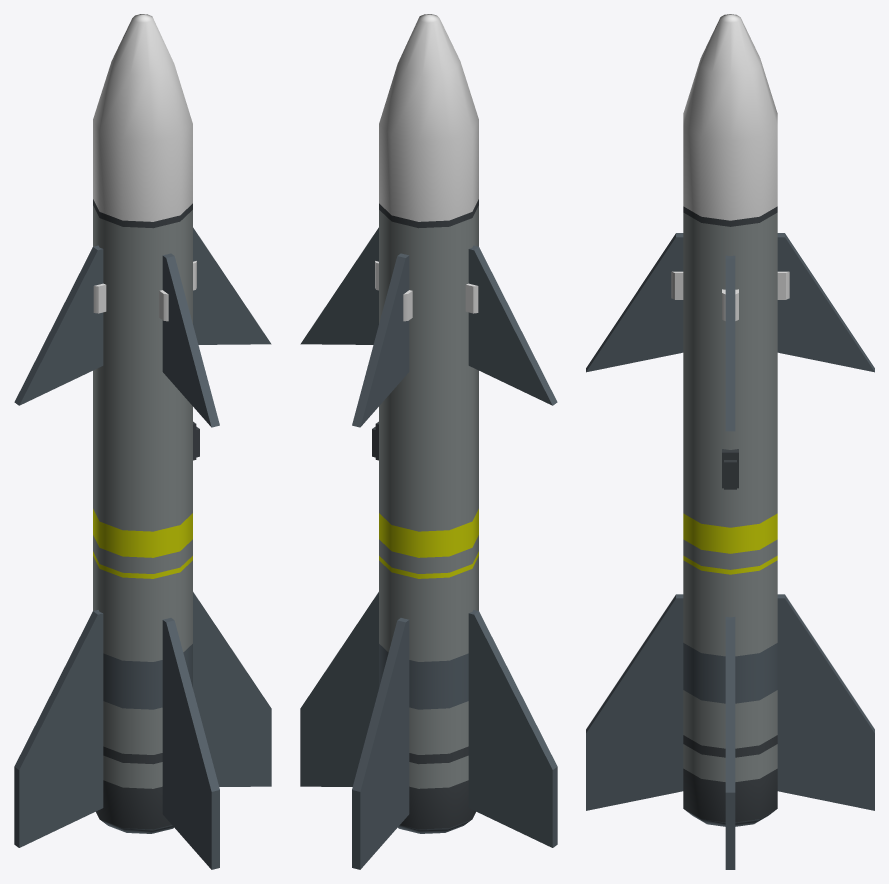
Rendered from Missile.fbx.
3 renders of one model, left to right at view 1: azimuth 30°, elevation 25°; view 2: azimuth 150°, elevation 25°; view 3: azimuth 270°, elevation 25°, orthographic.
Parts seen in each view (by area): view 1: pCylinder1, pCube6, pCube5, pCube4; view 2: pCylinder1, pCube6, pCube5, pCube4; view 3: pCylinder1, pCube6, pCube5, pCube2, pCube7.
Boxes of the visible parts, x1,y1,x2,y2 form: pCylinder1: (93,14,192,833); pCube6: (14,592,271,869); pCube5: (14,227,271,427); pCube4: (93,261,196,313); pCylinder1: (379,14,478,833); pCube6: (300,592,557,869); pCube5: (300,227,557,427); pCube4: (375,261,478,313); pCylinder1: (683,14,777,826); pCube6: (586,594,874,869); pCube5: (586,233,874,431); pCube2: (671,271,789,299); pCube7: (722,449,738,489).
Bounding box in the file's own units: 7.32 × 22.24 × 7.32.
